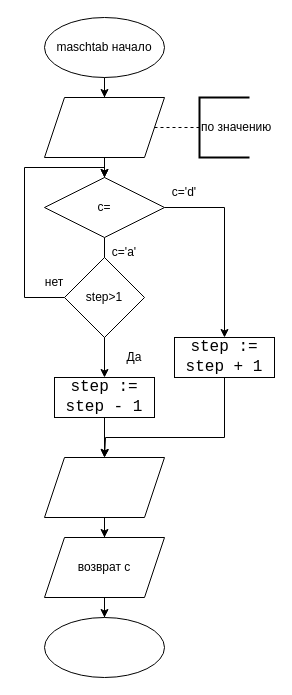
The diagram is 292 pixels wide and 695 high, and some of its shapes have lost their labels. The centre of each missing label's shape, as x and y in pixels:
maschtab конец: point 104,647
window.clear: point 104,487
инициализация с: point 104,127
